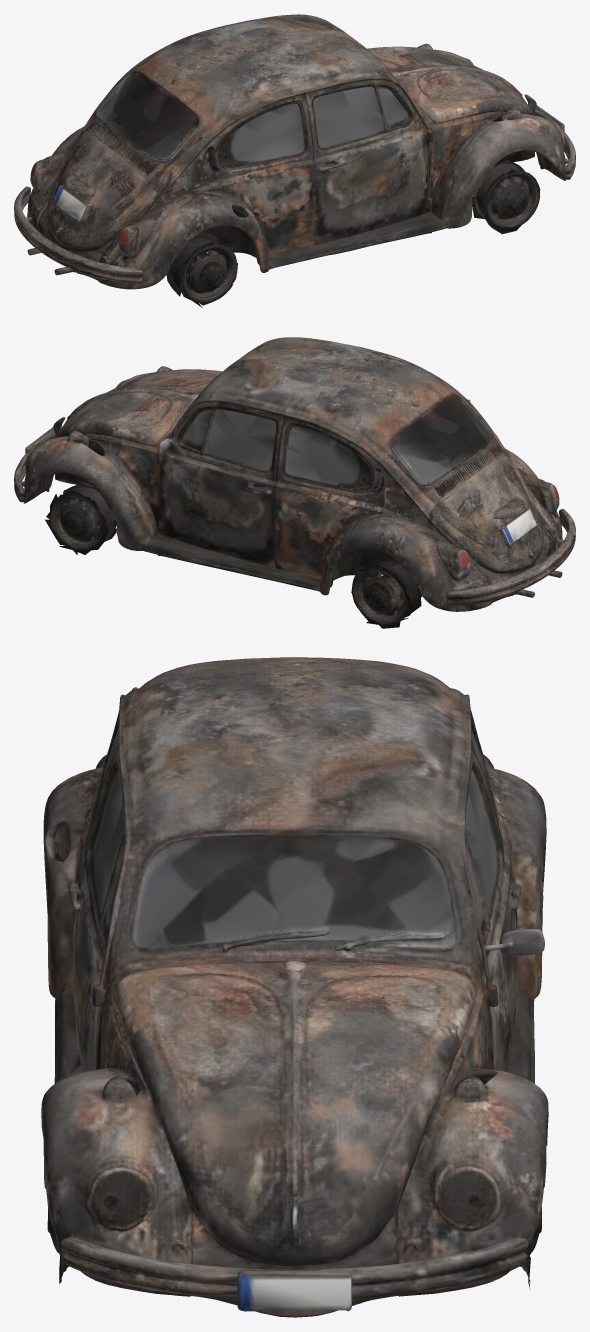
File: besouro-queimado__01a16c1c.glb
The picture shows the model from 3 angles, top to bottom: view 1: azimuth 30°, elevation 25°; view 2: azimuth 150°, elevation 25°; view 3: azimuth 270°, elevation 25°; orthographic projection. The views are drawn at different scales.
Parts seen in each view (by area): view 1: besouro-queimado; view 2: besouro-queimado; view 3: besouro-queimado.
Boxes of the visible parts, left/top/right/bottom form: besouro-queimado: left=14, top=14, right=575, bottom=307; besouro-queimado: left=14, top=337, right=575, bottom=628; besouro-queimado: left=41, top=657, right=548, bottom=1317.
Bounding box in the file's own units: 4.08 × 1.46 × 1.75.
1 material, 1 textured.
